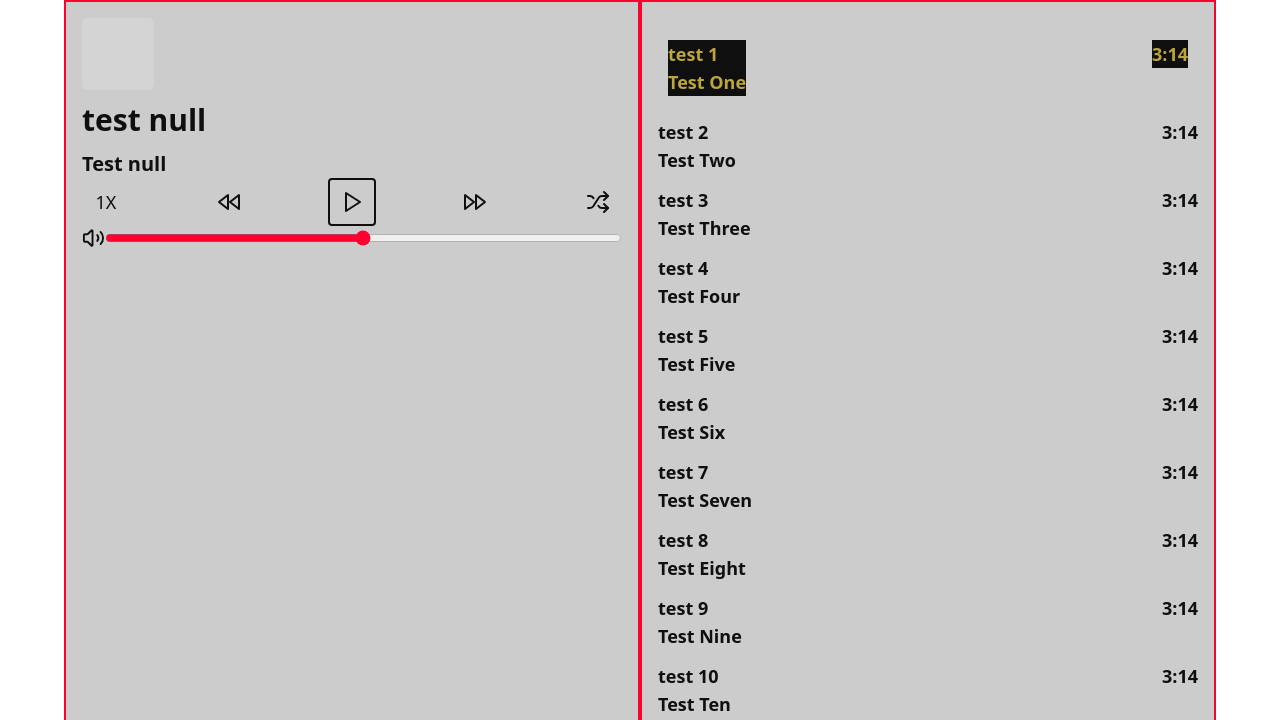
Test that selecting a song from the playlist changes the currently playing song
This screenshot has width=1280, height=720.
Click the text "test 3": click(683, 200) [658,188,708,212]
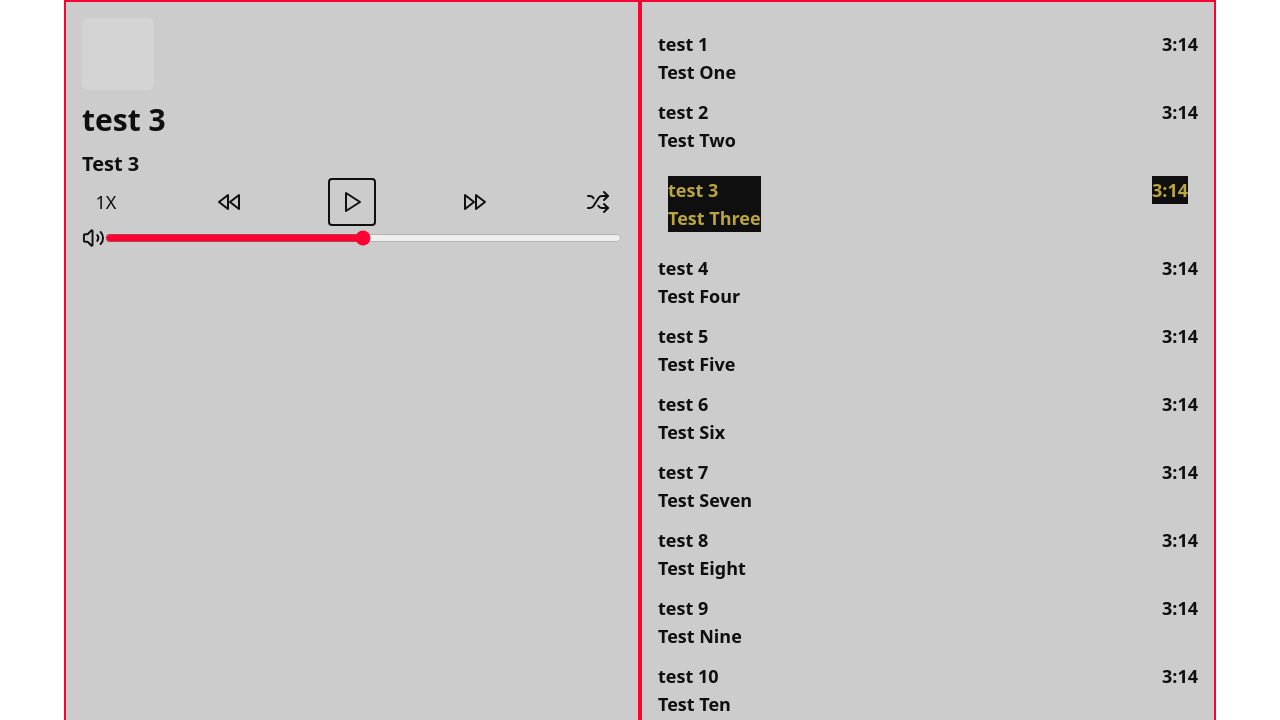
Result: the heading reads "test 3" at [82,99,166,140]
